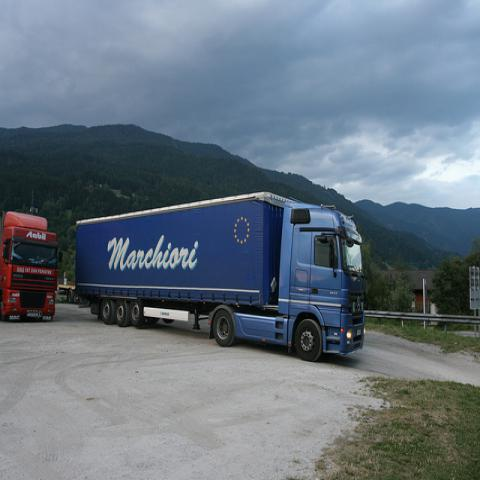truck: (75, 191, 365, 365), (0, 209, 63, 322)
